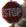Stop sign: (0, 0, 25, 26)
